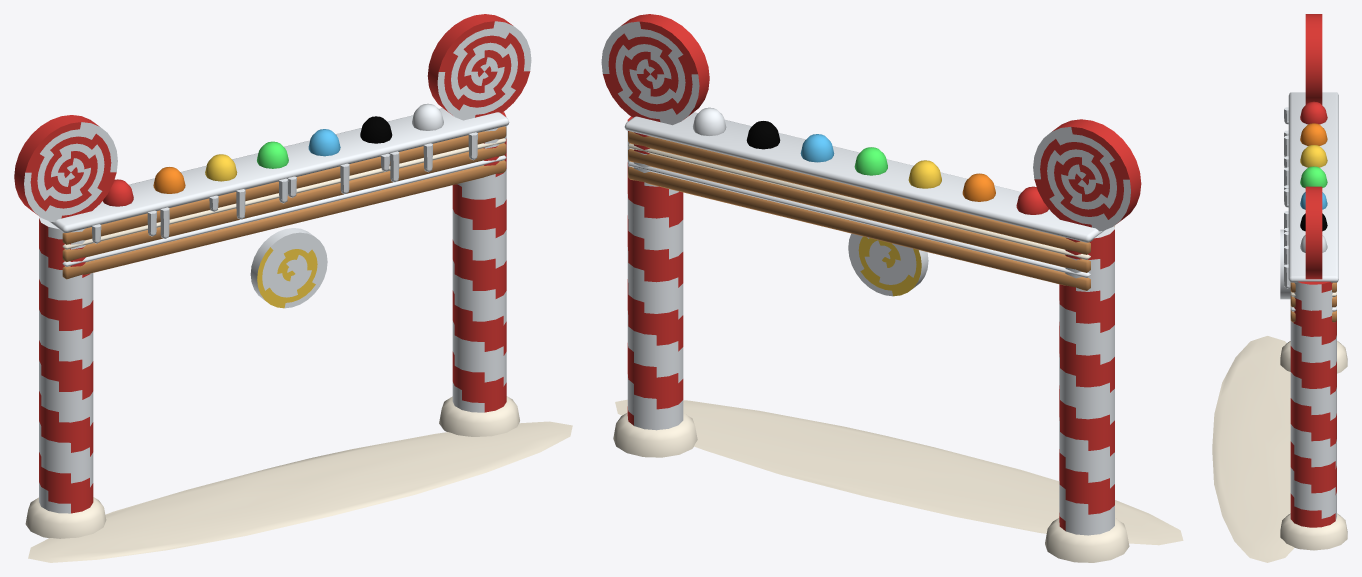
File: CandyGate.fbx
3 views of the same model, side by side, from view 1: azimuth 30°, elevation 25°; view 2: azimuth 150°, elevation 25°; view 3: azimuth 270°, elevation 25° (orthographic). The views are drawn at different scales.
Visible parts, largest first — view 1: CandyGate; view 2: CandyGate; view 3: CandyGate.
Part boxes in pixels (<box>): CandyGate: <box>14,14,572,562</box>; CandyGate: <box>601,14,1183,562</box>; CandyGate: <box>1212,14,1347,562</box>.
Size of the model in its own units: 11.59 by 8.2 by 2.92.
2 materials, 2 textured.
